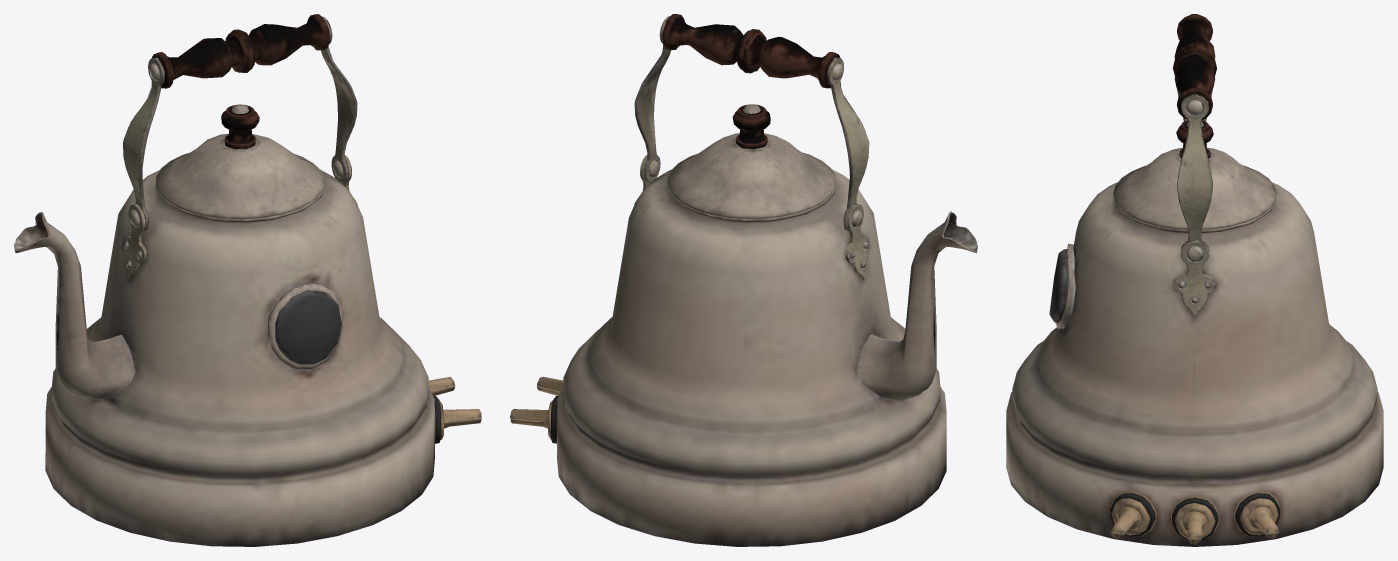
Rendered from distance.fbx.
3 views of the same model, side by side, from view 1: azimuth 30°, elevation 25°; view 2: azimuth 150°, elevation 25°; view 3: azimuth 270°, elevation 25° (orthographic). The views are drawn at different scales.
Parts seen in each view (by area): view 1: vintage_electric_kettle; view 2: vintage_electric_kettle; view 3: vintage_electric_kettle.
Part boxes in pixels (x1,y1,x2,y2): vintage_electric_kettle: (14,14,481,546); vintage_electric_kettle: (510,14,977,546); vintage_electric_kettle: (1006,14,1383,546).
Size of the model in its own units: 32.1 by 30.49 by 24.84.
